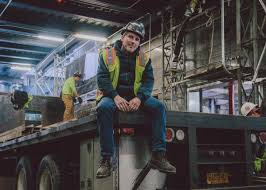helmet: (123, 19, 145, 33)
vest: (102, 48, 147, 93)
